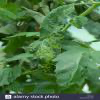Tomato leaf mosaic virus: (52, 47, 96, 90), (28, 27, 65, 74), (34, 3, 75, 39), (66, 17, 88, 30)
